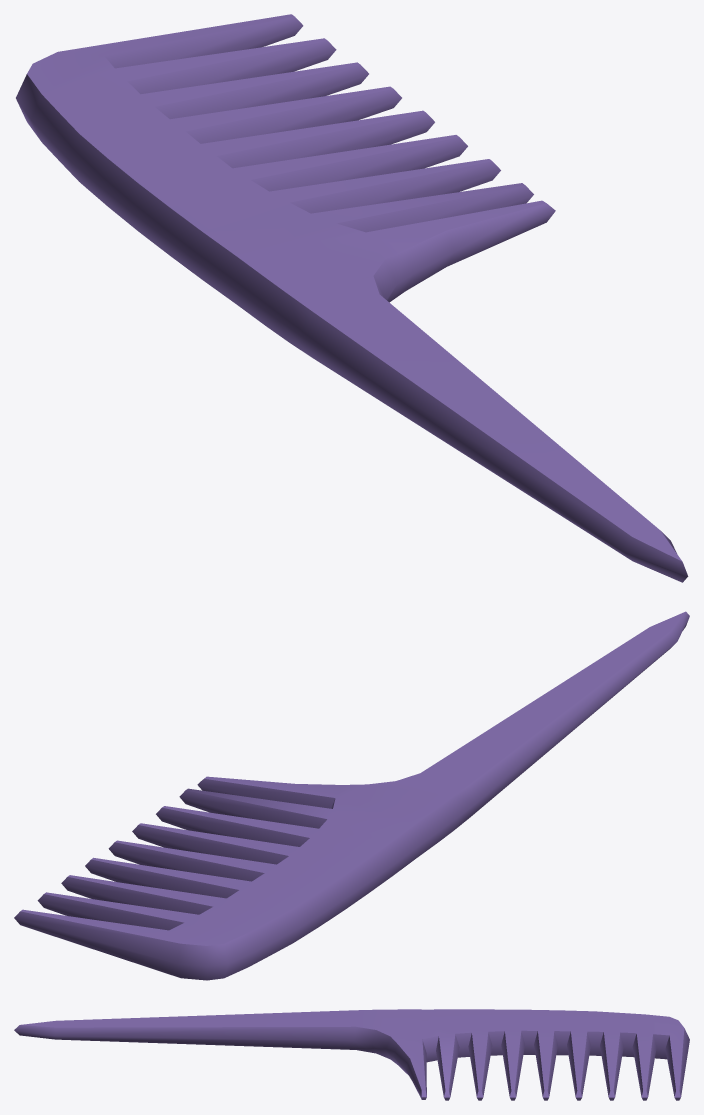
File: Hairbrush2.fbx
3 views of the same model, one above another, from view 1: azimuth 30°, elevation 25°; view 2: azimuth 150°, elevation 25°; view 3: azimuth 270°, elevation 25° (orthographic). The views are drawn at different scales.
Parts seen in each view (by area): view 1: Hairbrush2; view 2: Hairbrush2; view 3: Hairbrush2.
Boxes of the visible parts, <box> form: Hairbrush2: <box>16,14,688,582</box>; Hairbrush2: <box>14,611,689,980</box>; Hairbrush2: <box>14,1009,689,1100</box>.
Bounding box in the file's own units: 1.53 × 0.2183 × 5.56.
